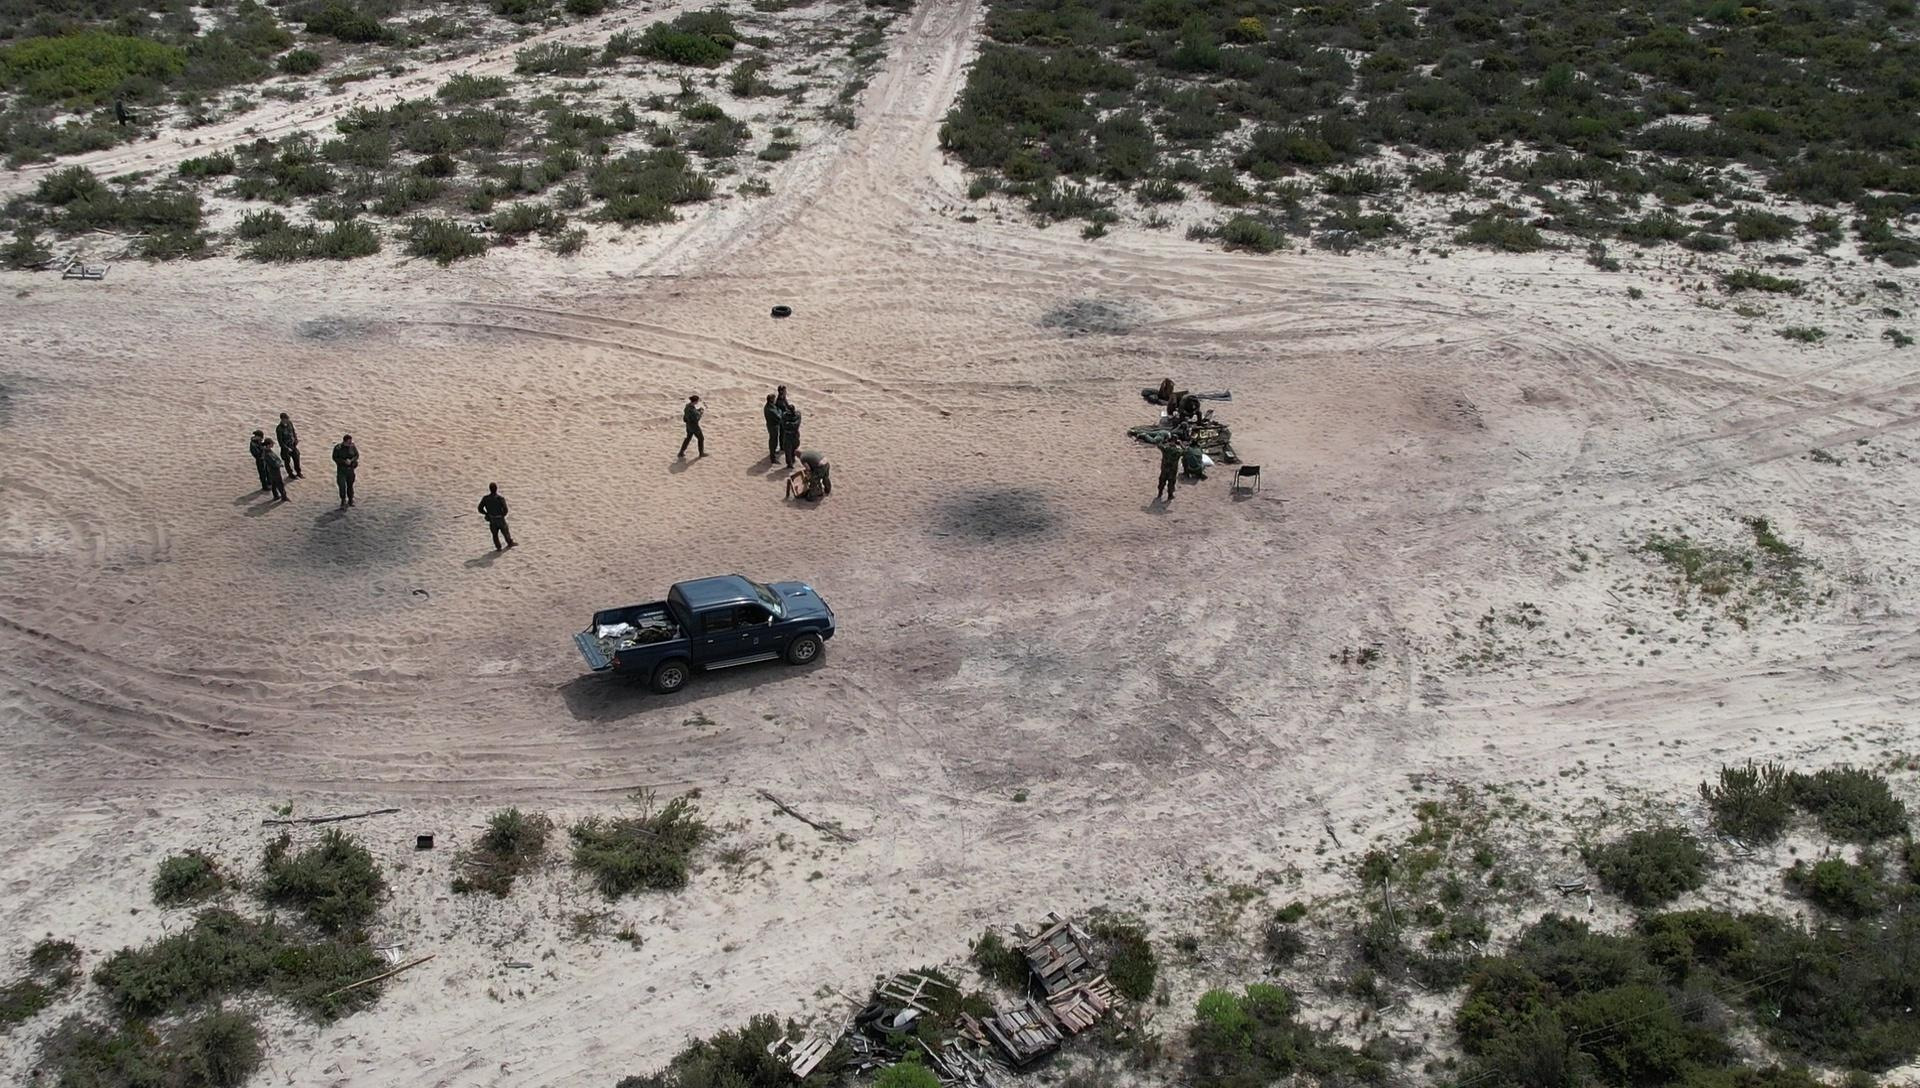Soldier: (323, 430, 375, 510), (471, 484, 522, 559), (670, 392, 713, 475), (787, 451, 839, 510), (255, 434, 295, 506), (269, 415, 302, 489), (1155, 435, 1185, 506), (1129, 419, 1215, 444), (767, 397, 796, 464), (1183, 440, 1218, 489), (781, 406, 800, 468), (1178, 386, 1208, 425), (790, 442, 803, 466)
